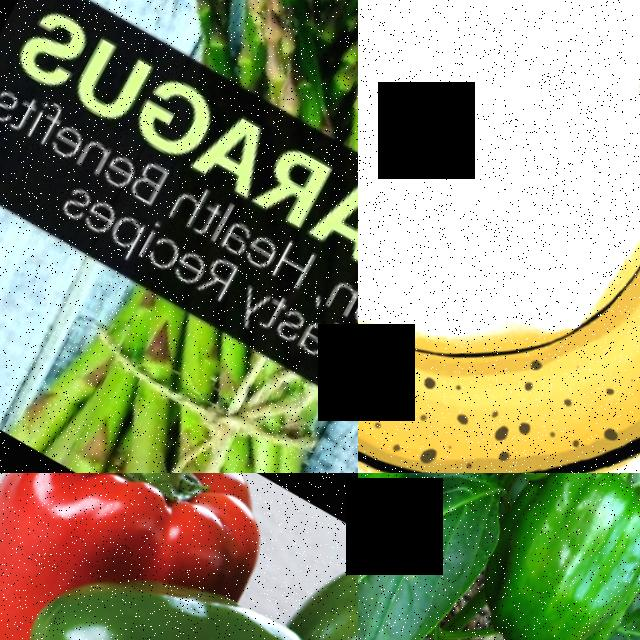asparagus: (108, 0, 358, 252)
banana: (358, 0, 640, 473)
bell pepper: (23, 514, 287, 640), (0, 473, 266, 598), (469, 473, 640, 640), (358, 473, 479, 562)
